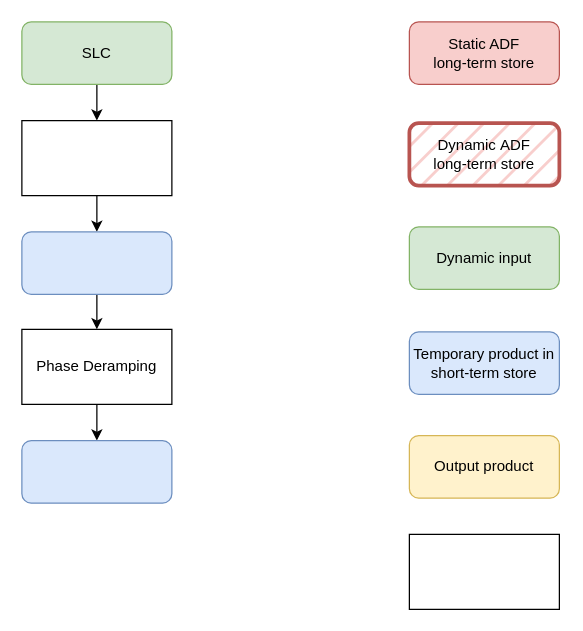
Some shapes in this 583 by 631 pixel diagram are drawn without their labels. The centre of each missing label's shape, as x and y in pixels:
"Amplitude Calibration" goes at [96,157].
"Processing block" goes at [483,571].
"SLC Calibrated" goes at [96,262].
"SLC Calibrated and deramped" goes at [96,471].
